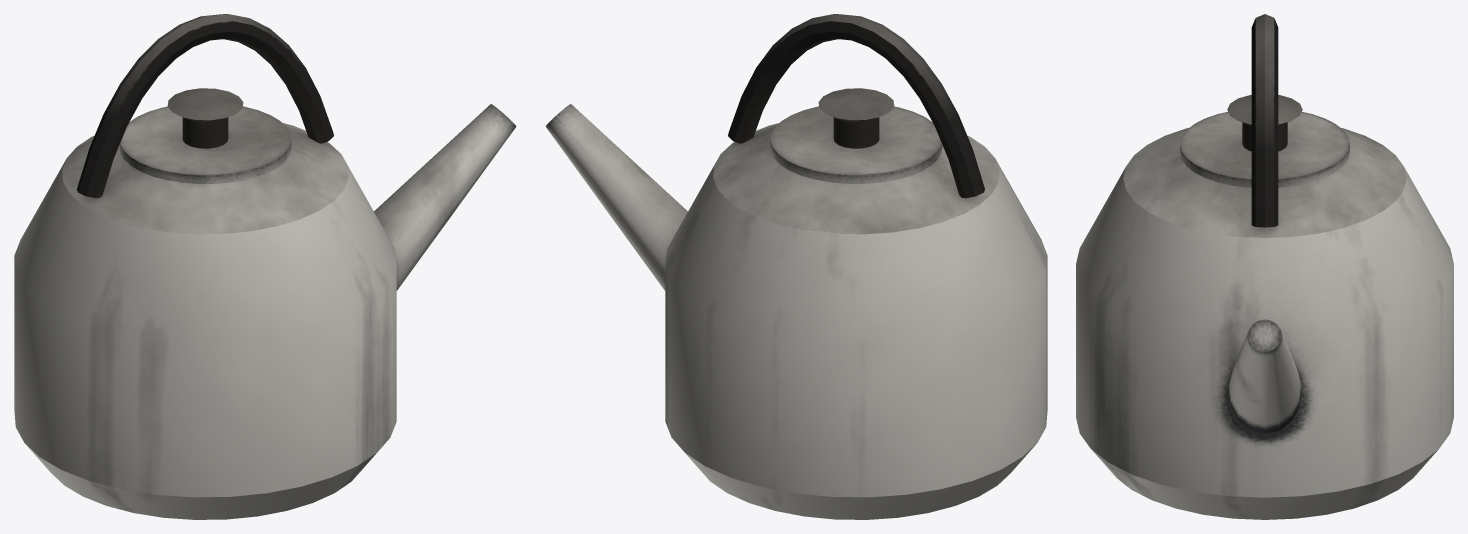
The model's file is SM_Kettle_Enamel.fbx.
The picture shows the model from 3 angles, left to right: view 1: azimuth 30°, elevation 25°; view 2: azimuth 150°, elevation 25°; view 3: azimuth 270°, elevation 25°; orthographic projection.
Visible parts, largest first — view 1: SM_Kettle_Enamel; view 2: SM_Kettle_Enamel; view 3: SM_Kettle_Enamel.
Part boxes in pixels (box(x1,y1,x2,y2)): SM_Kettle_Enamel: box(14, 14, 516, 519); SM_Kettle_Enamel: box(545, 14, 1047, 519); SM_Kettle_Enamel: box(1076, 14, 1453, 519).
Bounding box in the file's own units: 0.2856 × 0.2508 × 0.2.
1 material, 1 textured.
